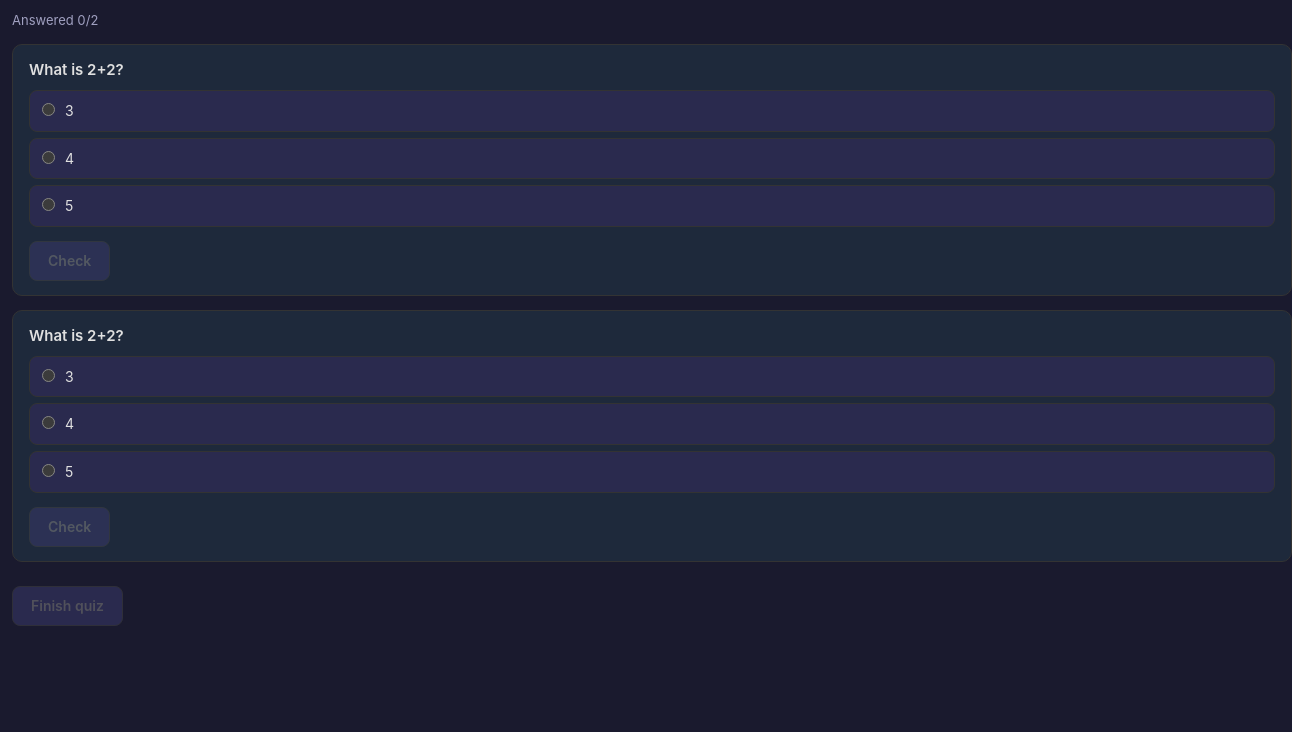
Test case: <QuizStep> › кнопка Submit дизейблена пока не отвечены все вопросы
What coordinates should you click on to do the following:
click the radio button with test id "option-0-b"
I would click on:
 (48, 157)
Its box is [42, 151, 55, 164].
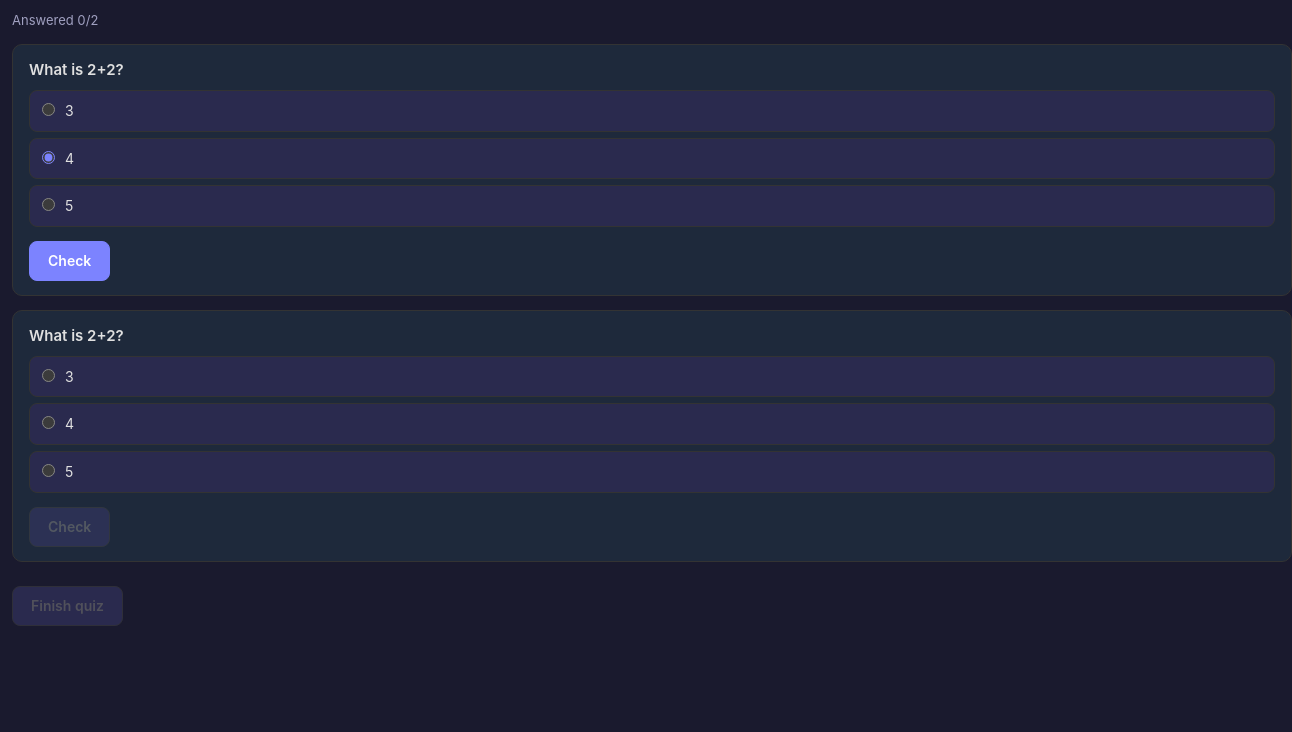
What coordinates should you click on to do the following:
click the button with test id "check-0"
I would click on:
 (70, 261)
Its box is [29, 241, 110, 281].
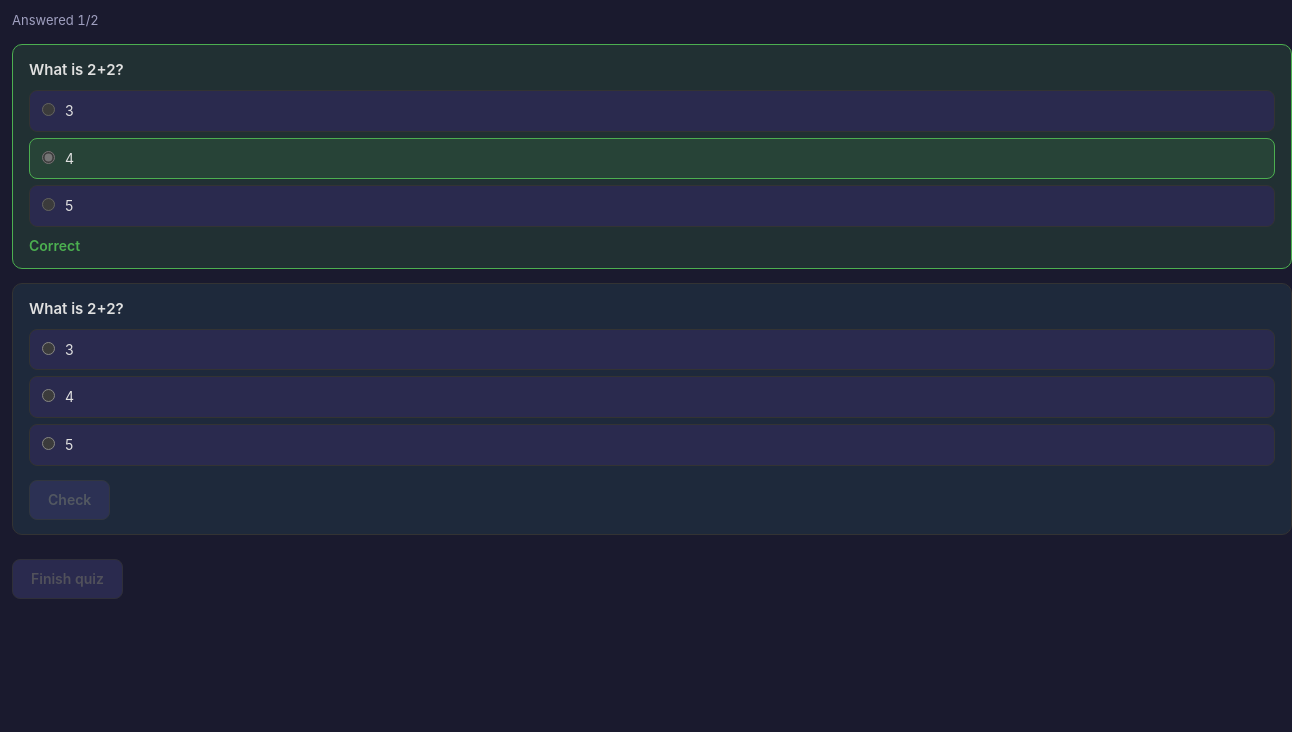
Expected: the button with test id "lesson-quiz-step-submit" is disabled, [12, 559, 123, 599]
What coordinates should you click on to do the following:
click the radio button with test id "option-1-b"
I would click on:
 (48, 396)
Its box is [42, 389, 55, 402].
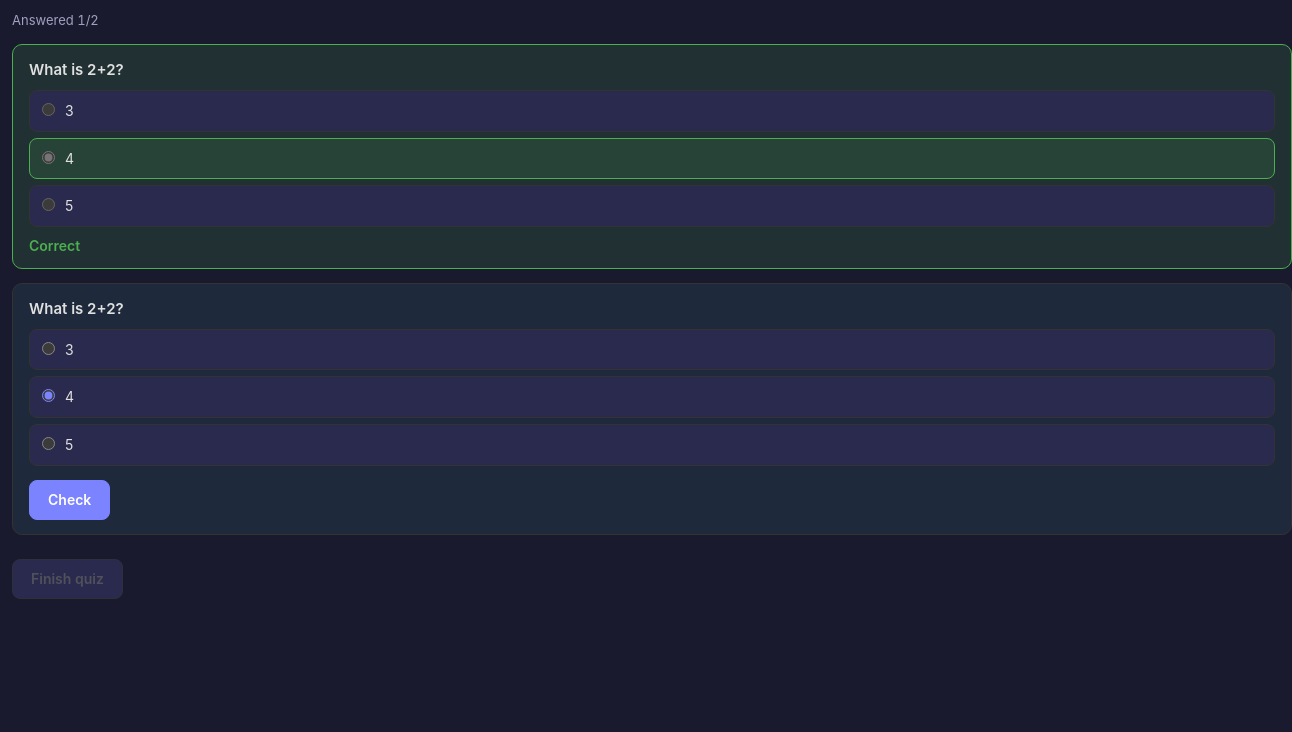
What coordinates should you click on to do the following:
click the button with test id "check-1"
I would click on:
 (70, 500)
Its box is [29, 480, 110, 520].
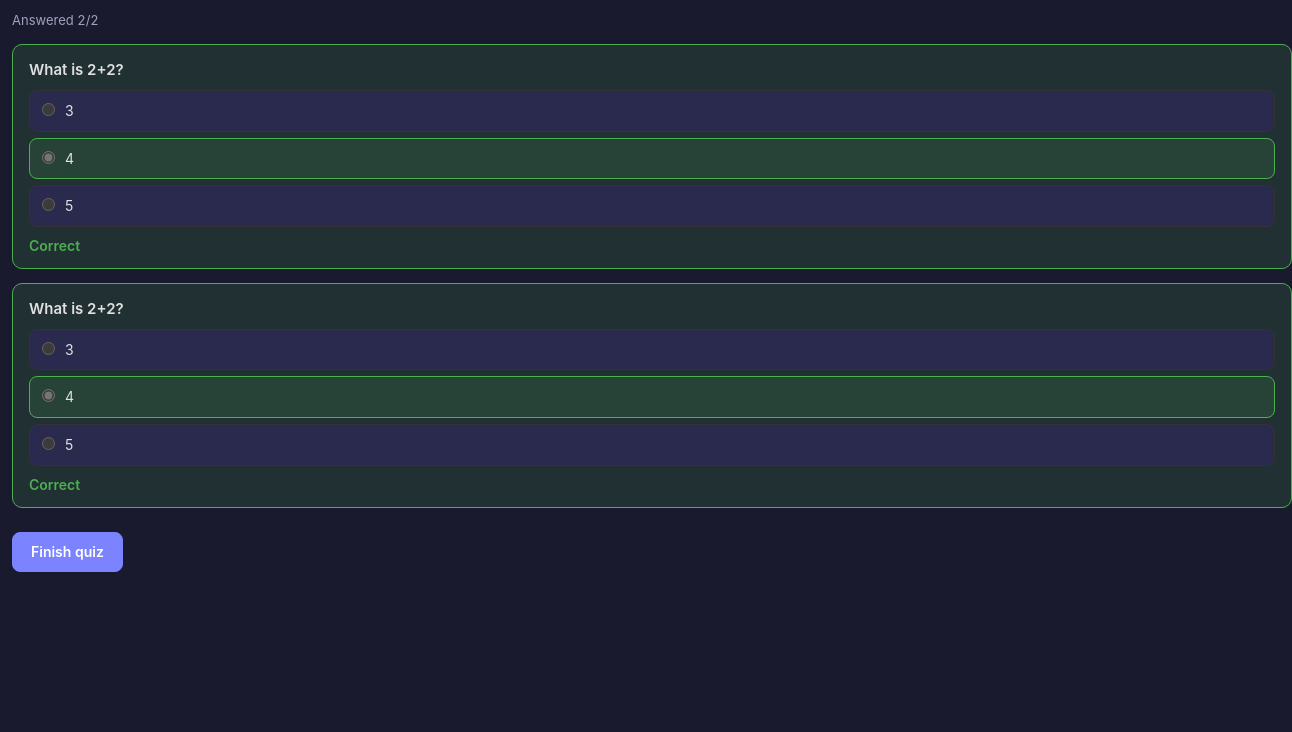
Result: the button with test id "lesson-quiz-step-submit" is enabled at [12, 532, 123, 572]
